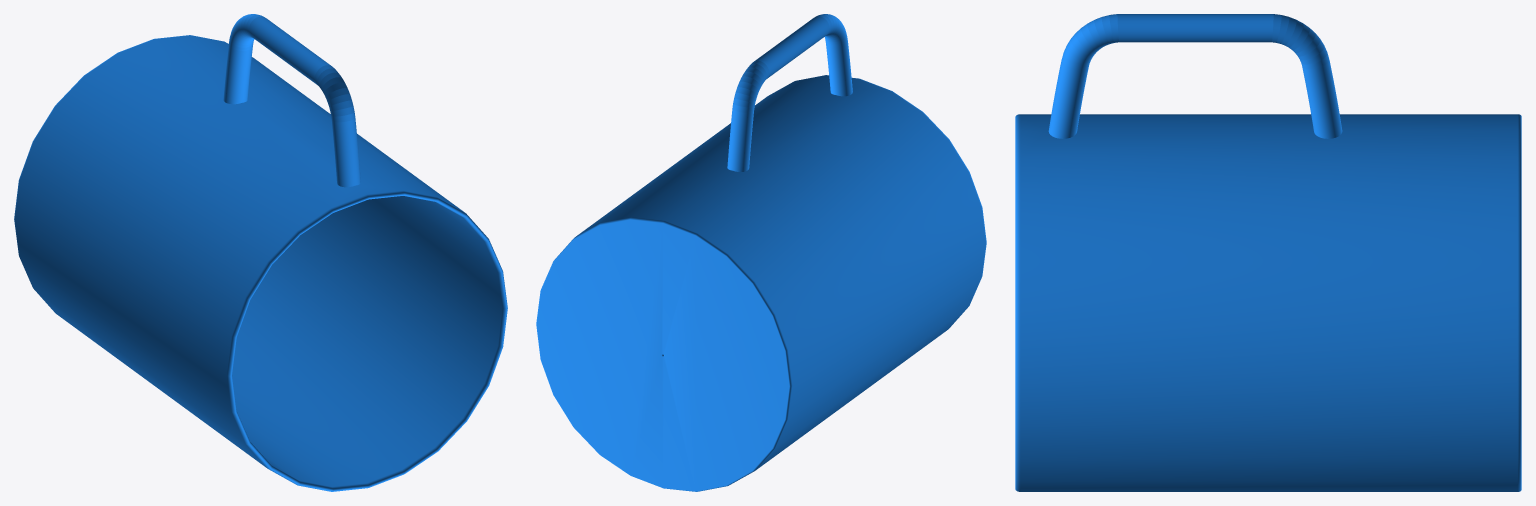
The model's file is model_scale.obj.
3 views of the same model, side by side, from view 1: azimuth 30°, elevation 25°; view 2: azimuth 150°, elevation 25°; view 3: azimuth 270°, elevation 25° (orthographic). The views are drawn at different scales.
Parts seen in each view (by area): view 1: mesh1_mesh1-geometry, mesh2_mesh2-geometry; view 2: mesh1_mesh1-geometry, mesh2_mesh2-geometry; view 3: mesh1_mesh1-geometry, mesh2_mesh2-geometry.
Boxes of the visible parts, x1,y1,x2,y2 form: mesh1_mesh1-geometry: (14, 35, 507, 491); mesh2_mesh2-geometry: (223, 14, 360, 187); mesh1_mesh1-geometry: (536, 75, 986, 491); mesh2_mesh2-geometry: (727, 14, 852, 171); mesh1_mesh1-geometry: (1015, 114, 1521, 491); mesh2_mesh2-geometry: (1048, 14, 1342, 138).
Size of the model in its own units: 0.0819 by 0.1095 by 0.1093.
